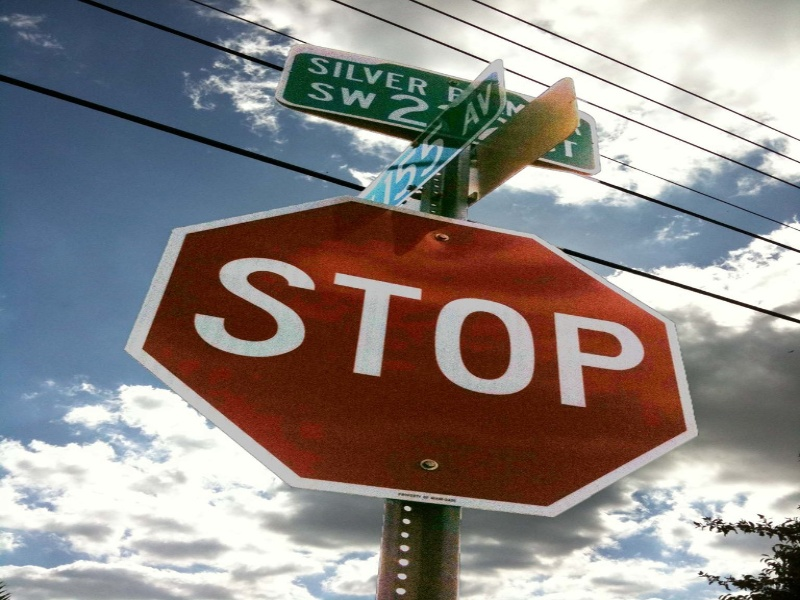stop: (157, 208, 687, 470)
